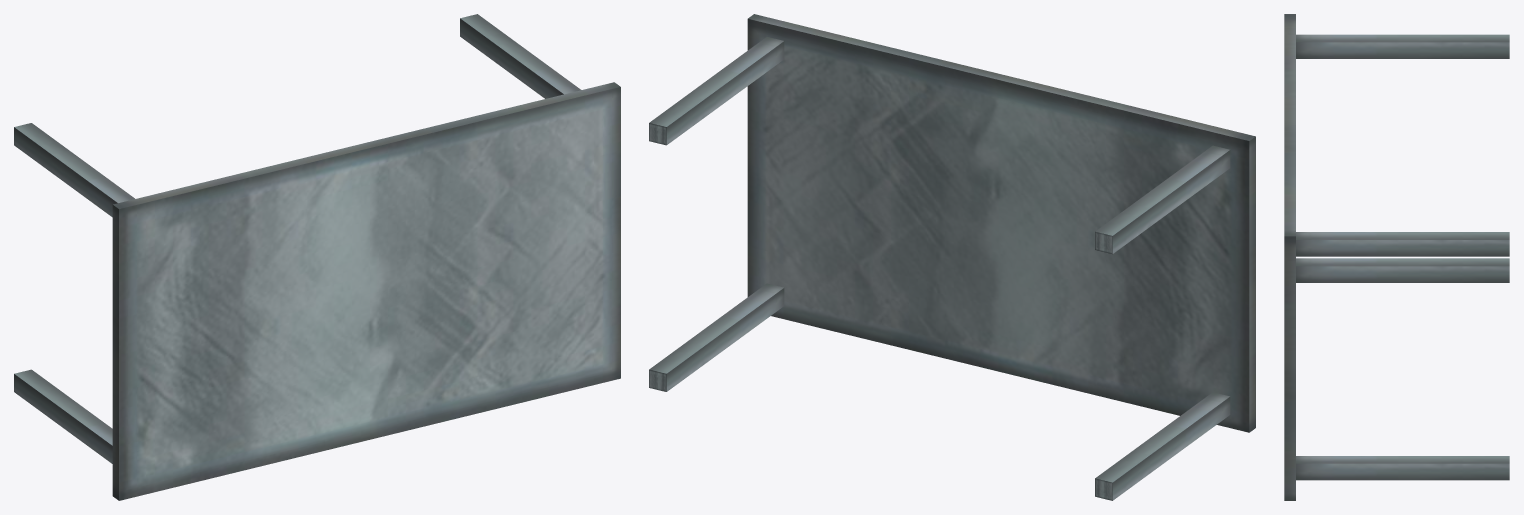
The model's file is table.glb.
The picture shows the model from 3 angles, left to right: view 1: azimuth 30°, elevation 25°; view 2: azimuth 150°, elevation 25°; view 3: azimuth 270°, elevation 25°; orthographic projection. The views are drawn at different scales.
Visible parts, largest first — view 1: table; view 2: table; view 3: table.
Part boxes in pixels (box(x1,y1,x2,y2)): table: box(14, 14, 620, 500); table: box(649, 14, 1255, 500); table: box(1284, 14, 1509, 500).
Size of the model in its own units: 7.88 by 4.38 by 3.38.
1 material, 1 textured.
